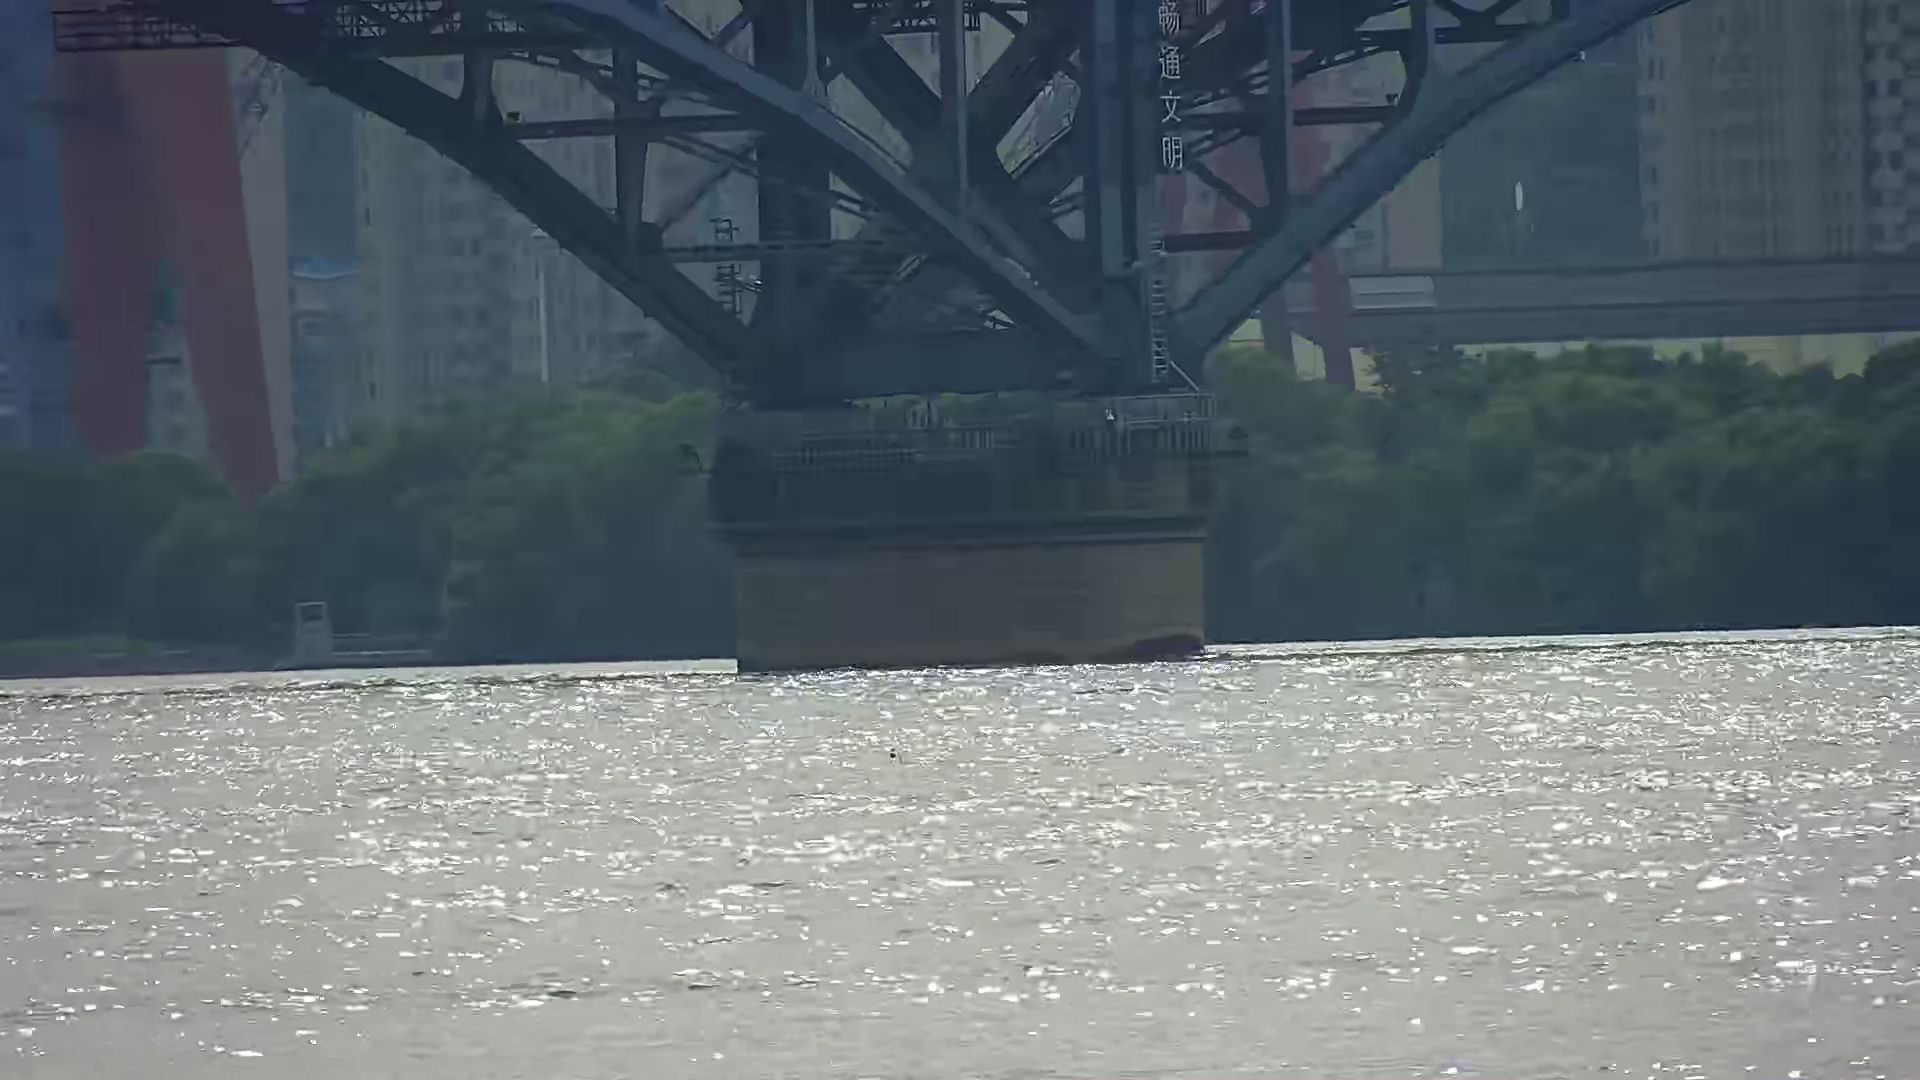bridge: (4, 1, 1855, 674)
